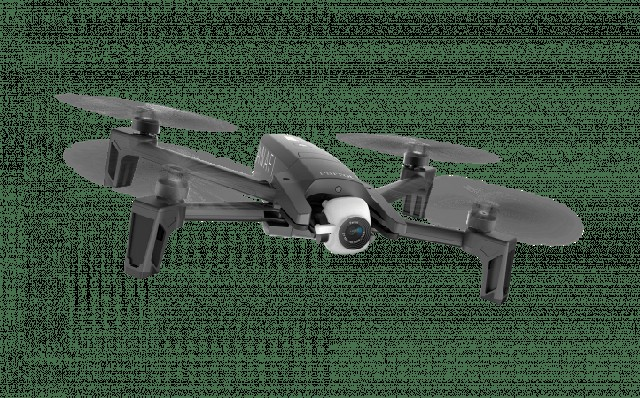maybay_khongnguoilai: (59, 90, 564, 295)
